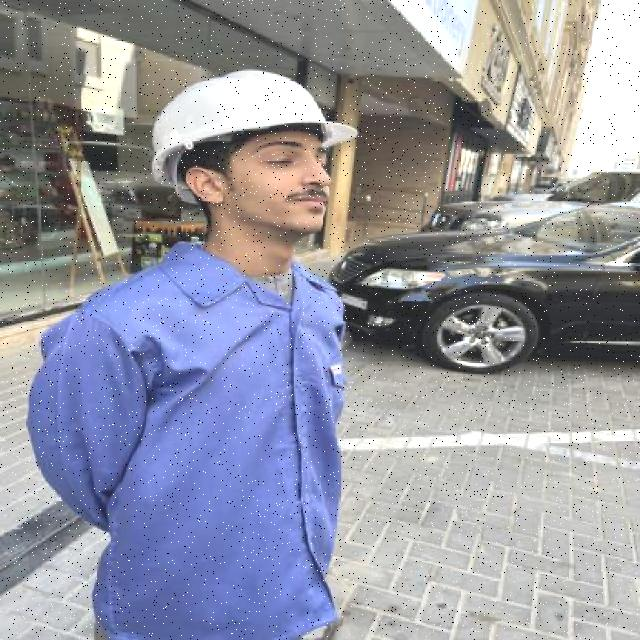Helmet: (148, 70, 361, 167)
